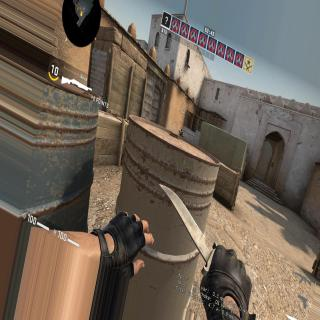CT-Body: (178, 128, 184, 136)
CT-Head: (181, 128, 182, 130)
